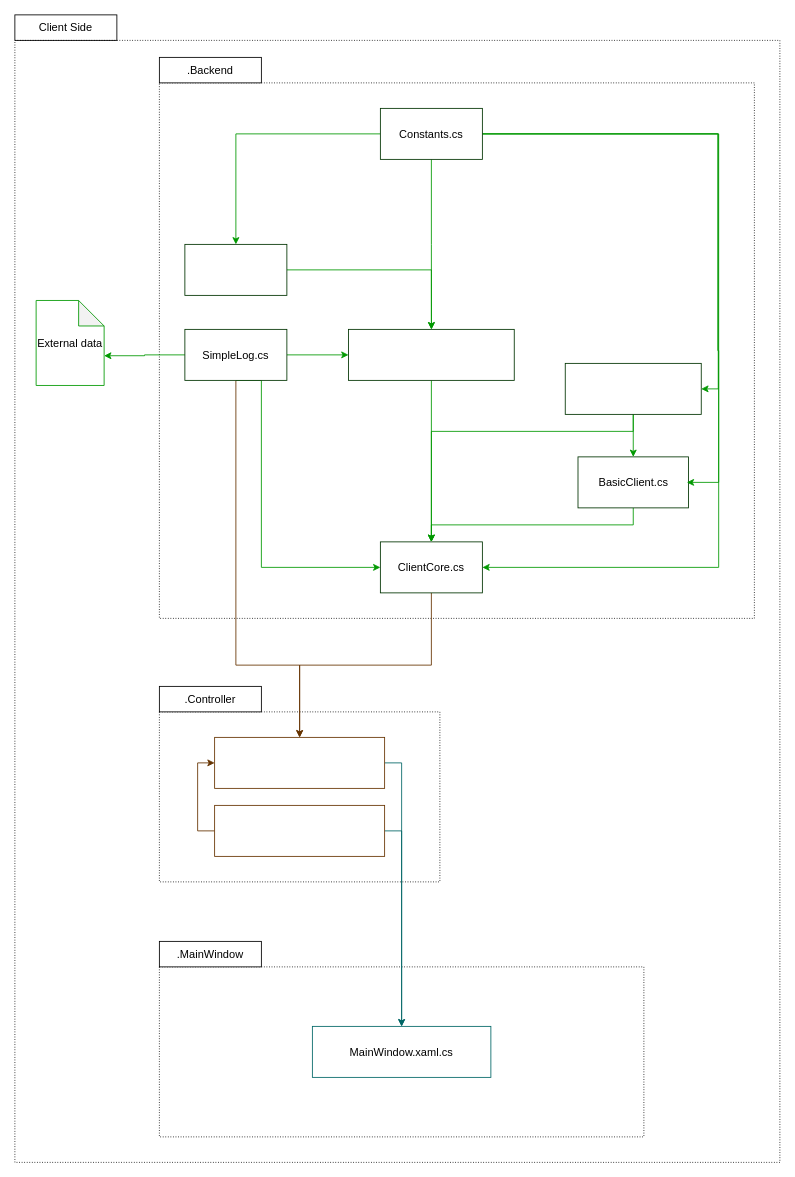
Image size: 795x1177. Some labels were removed from this diagram. Here are the shapes that lost their labels. From the top down, the box of each, then its label:
(184, 244, 287, 295): RSAGenerating.cs
(348, 329, 514, 380): CommunicationWithServer.cs
(564, 363, 701, 414): BasicInfoIpAddress.cs
(214, 737, 385, 788): Controller.cs
(214, 805, 385, 856): Message.cs
